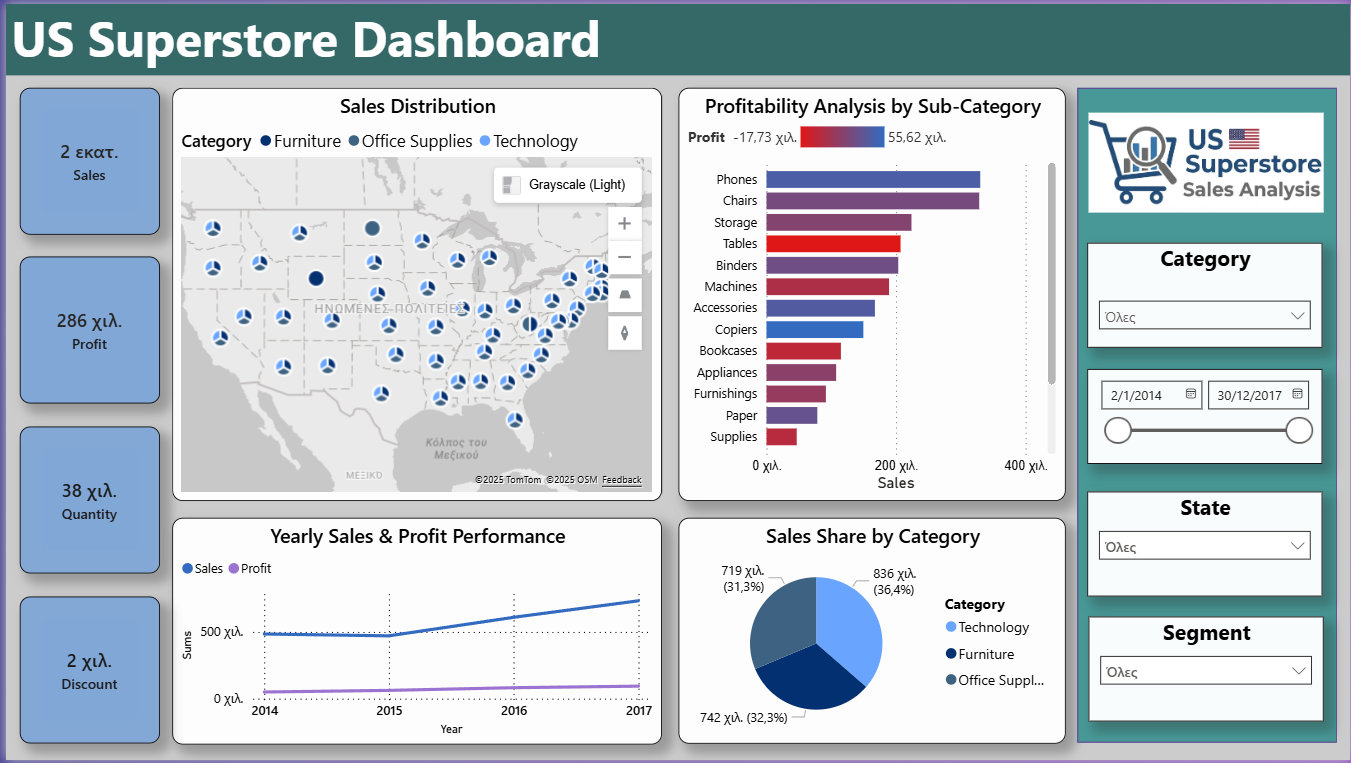

The dashboard page shown, as its layout file describes it:
{"tool":"powerbi","page":{"name":"Σελίδα 1","canvas":[1280,720],"ordinal":0},"visuals":[{"type":"clusteredBarChart","title":"Profitability Analysis by Sub-Category","fields":{"Category":["Sample - Superstore.Sub-Category"],"Y":["Sum(Sample - Superstore.Sales)"]},"box":[788.8,66.2,491.2,653.8],"z":0},{"type":"textbox","box":[0,0,786.7,68.3],"z":1000},{"type":"cardVisual","fields":{"Data":["Sum(Sample - Superstore.Sales)"]},"box":[787.3,0,165.1,68.3],"z":2000},{"type":"cardVisual","fields":{"Data":["Sum(Sample - Superstore.Profit)"]},"box":[950.8,0,165.1,68.3],"z":3000},{"type":"cardVisual","fields":{"Data":["Sum(Sample - Superstore.Quantity)"]},"box":[1114.3,0,165.1,68.3],"z":4000},{"type":"lineChart","title":"Yearly Sales & Profit Performance","fields":{"Y":["Sum(Sample - Superstore.Sales)","Sum(Sample - Superstore.Profit)"],"Category":["Sample - Superstore.Order Date.Παραλλαγή.Ιεραρχία ημερομηνιών.Έτος"]},"box":[102.3,463.2,358.6,256.3],"z":5000},{"type":"slicer","title":"Year","fields":{"Values":["Sample - Superstore.Order Date.Παραλλαγή.Ιεραρχία ημερομηνιών.Έτος"]},"box":[0,68.8,103.8,651.2],"z":6000},{"type":"pieChart","title":"Sales Share by Category","fields":{"Category":["Sample - Superstore.Category"],"Y":["Sum(Sample - Superstore.Sales)"]},"box":[460.9,462.1,326.4,257.5],"z":7000},{"type":"azureMap","title":"Sales Distribution","fields":{"Series":["Sample - Superstore.Category"],"Category":["Sample - Superstore.Geography.Country","Sample - Superstore.Geography.State","Sample - Superstore.Geography.City"]},"box":[102.5,68.8,683.8,393.8],"z":8000},{"type":"slicer","title":"State","fields":{"Values":["Sample - Superstore.State"]},"box":[531.7,68.3,255.6,61.9],"z":9000}]}

Visuals, with their boxes in screenshot pixels (x1, y1, x2, y2), scaled from the page's 1280x720 canvas onto the 1351x763 screenshot:
"Profitability Analysis by Sub-Category" clusteredBarChart: region(833, 70, 1350, 762)
textbox: region(0, 0, 830, 72)
cardVisual - Sum(Sample - Superstore.Sales): region(831, 0, 1005, 72)
cardVisual - Sum(Sample - Superstore.Profit): region(1004, 0, 1178, 72)
cardVisual - Sum(Sample - Superstore.Quantity): region(1176, 0, 1350, 72)
"Yearly Sales & Profit Performance" lineChart: region(108, 491, 486, 762)
"Year" slicer: region(0, 73, 110, 762)
"Sales Share by Category" pieChart: region(486, 490, 831, 762)
"Sales Distribution" azureMap: region(108, 73, 830, 490)
"State" slicer: region(561, 72, 831, 138)
